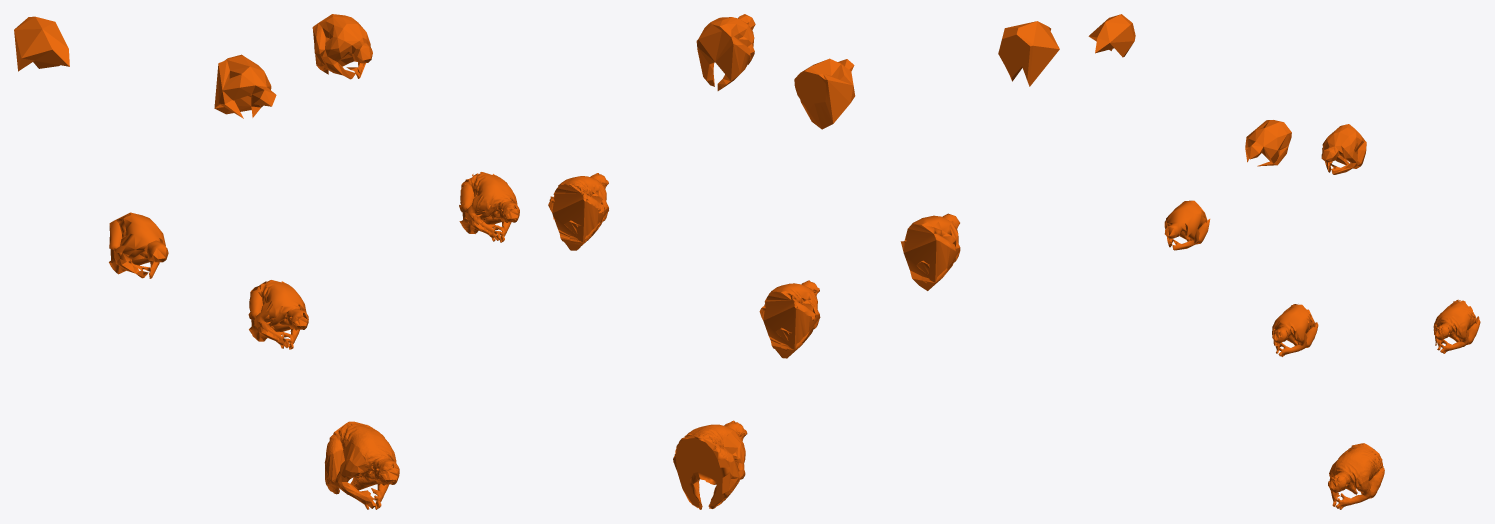
Rendered from Liam New.fbx.
The picture shows the model from 3 angles, left to right: view 1: azimuth 30°, elevation 25°; view 2: azimuth 150°, elevation 25°; view 3: azimuth 330°, elevation 25°; orthographic projection. The views are drawn at different scales.
Visible parts, largest first — view 1: flashforge stl export: %120190320 12:25:20_2, flashforge stl export: %120190320 12:25:20_6, flashforge stl export: %120190320 12:25:20, flashforge stl export: %120190320 12:25:20_5, flashforge stl export: %120190320 12:25:20_4, flashforge stl export: %120190320 12:25:20_3, Layer 01; view 2: flashforge stl export: %120190320 12:25:20_2, flashforge stl export: %120190320 12:25:20_6, flashforge stl export: %120190320 12:25:20, flashforge stl export: %120190320 12:25:20_5, flashforge stl export: %120190320 12:25:20_4, flashforge stl export: %120190320 12:25:20_3, Layer 01; view 3: flashforge stl export: %120190320 12:25:20_2, flashforge stl export: %120190320 12:25:20_6, flashforge stl export: %120190320 12:25:20, flashforge stl export: %120190320 12:25:20_4, flashforge stl export: %120190320 12:25:20_5, flashforge stl export: %120190320 12:25:20_3, Layer 01.
Part boxes in pixels (x1,y1,x2,y2): flashforge stl export: %120190320 12:25:20_2: [324, 421, 399, 509]; flashforge stl export: %120190320 12:25:20_6: [459, 172, 519, 242]; flashforge stl export: %120190320 12:25:20: [248, 280, 308, 349]; flashforge stl export: %120190320 12:25:20_5: [109, 212, 168, 278]; flashforge stl export: %120190320 12:25:20_4: [312, 14, 372, 79]; flashforge stl export: %120190320 12:25:20_3: [214, 54, 276, 118]; Layer 01: [14, 16, 69, 71]; flashforge stl export: %120190320 12:25:20_2: [673, 420, 747, 509]; flashforge stl export: %120190320 12:25:20_6: [548, 173, 608, 250]; flashforge stl export: %120190320 12:25:20: [759, 280, 820, 358]; flashforge stl export: %120190320 12:25:20_5: [900, 213, 960, 290]; flashforge stl export: %120190320 12:25:20_4: [696, 14, 755, 90]; flashforge stl export: %120190320 12:25:20_3: [794, 58, 855, 129]; Layer 01: [998, 21, 1059, 86]; flashforge stl export: %120190320 12:25:20_2: [1328, 443, 1384, 509]; flashforge stl export: %120190320 12:25:20_6: [1433, 299, 1480, 353]; flashforge stl export: %120190320 12:25:20: [1272, 304, 1318, 356]; flashforge stl export: %120190320 12:25:20_4: [1321, 124, 1366, 174]; flashforge stl export: %120190320 12:25:20_5: [1164, 200, 1210, 250]; flashforge stl export: %120190320 12:25:20_3: [1245, 120, 1291, 166]; Layer 01: [1088, 14, 1135, 57].
Bounding box in the file's own units: 617 × 663 × 98.83.
